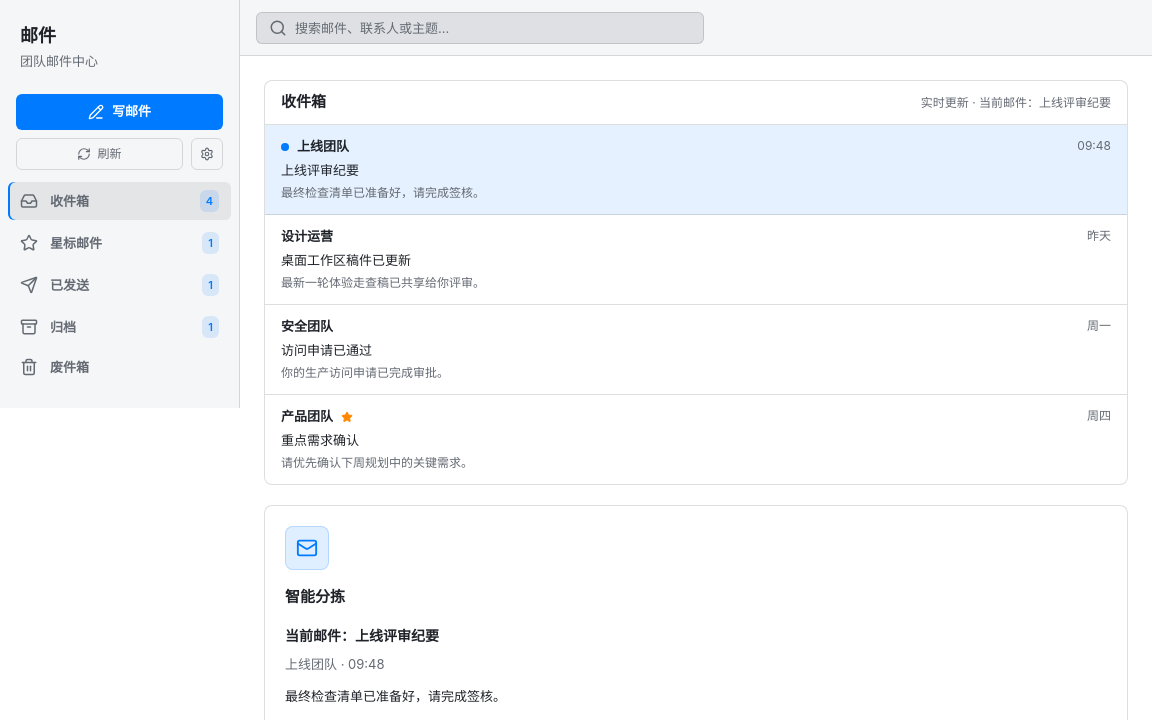
Scenario: workspace secondary pages › refuses to send mail until an account is configured
// 未配置邮箱账号 → 诚实拒绝发送（不伪造已发送），弹出账号配置面板
Click the button with test id "email-compose": click(120, 112) [16, 94, 223, 130]
(page scrolled)
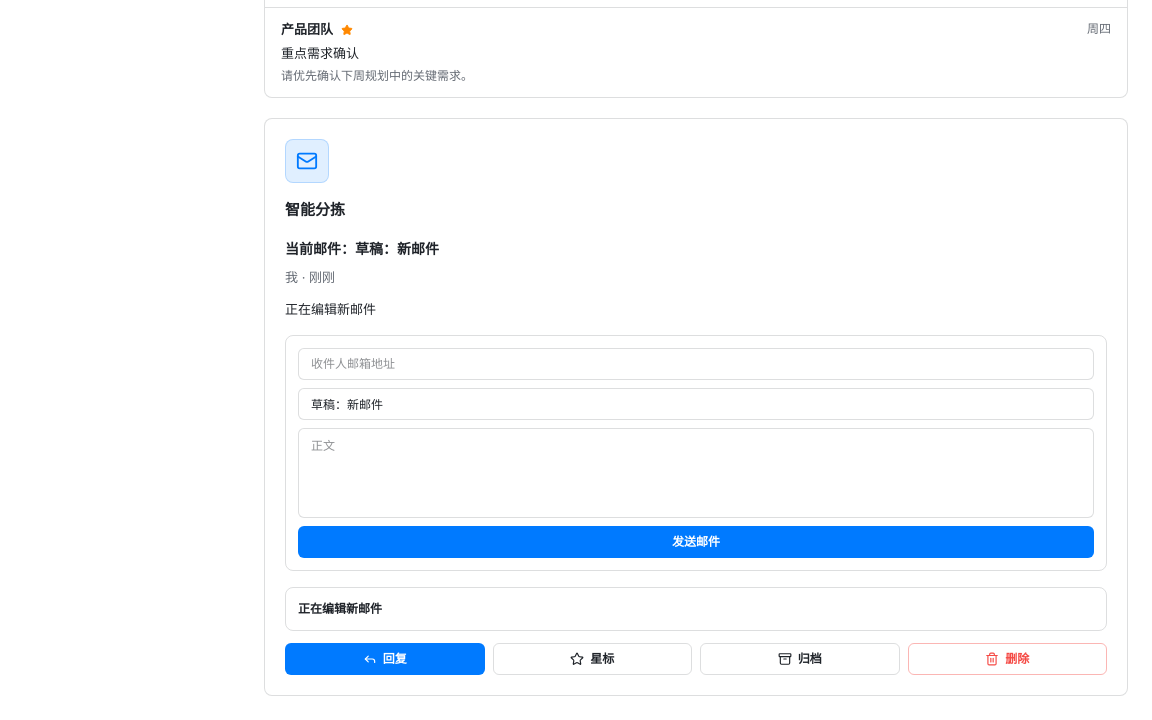
In the field with test id "email-compose-to": (696, 364) [298, 348, 1094, 380], type "ops@example.com"
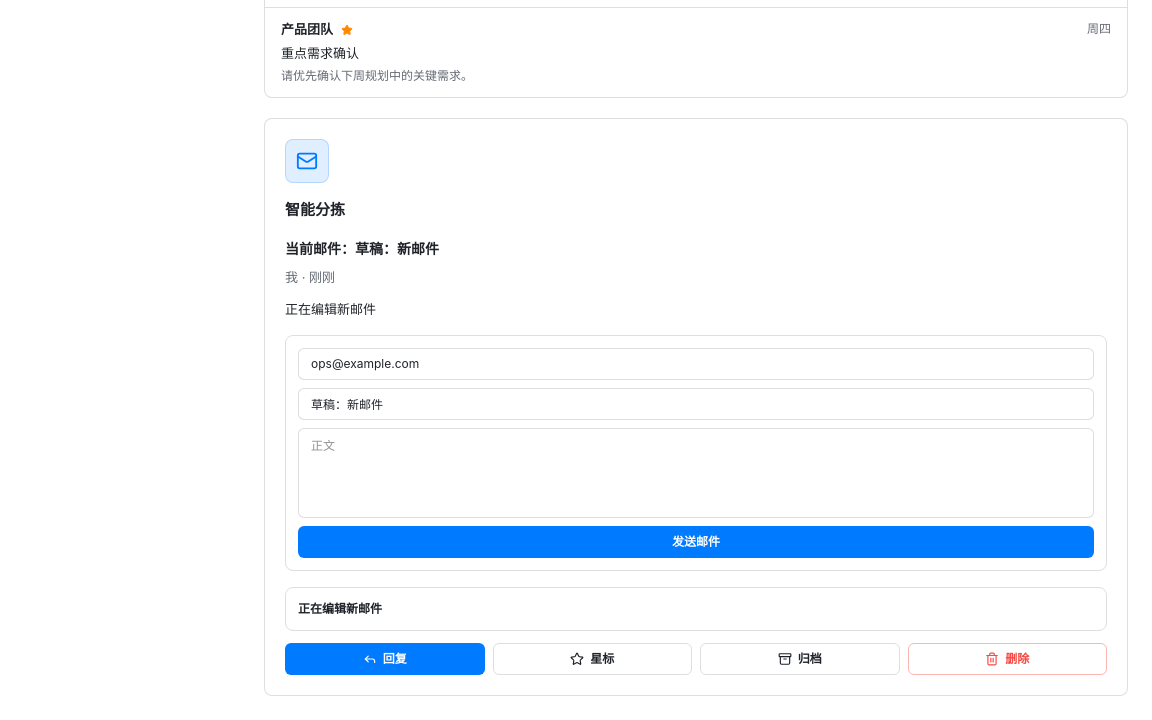
Replace the text in the field with test id "email-compose-subject" with "发布确认": (696, 404) [298, 388, 1094, 420]
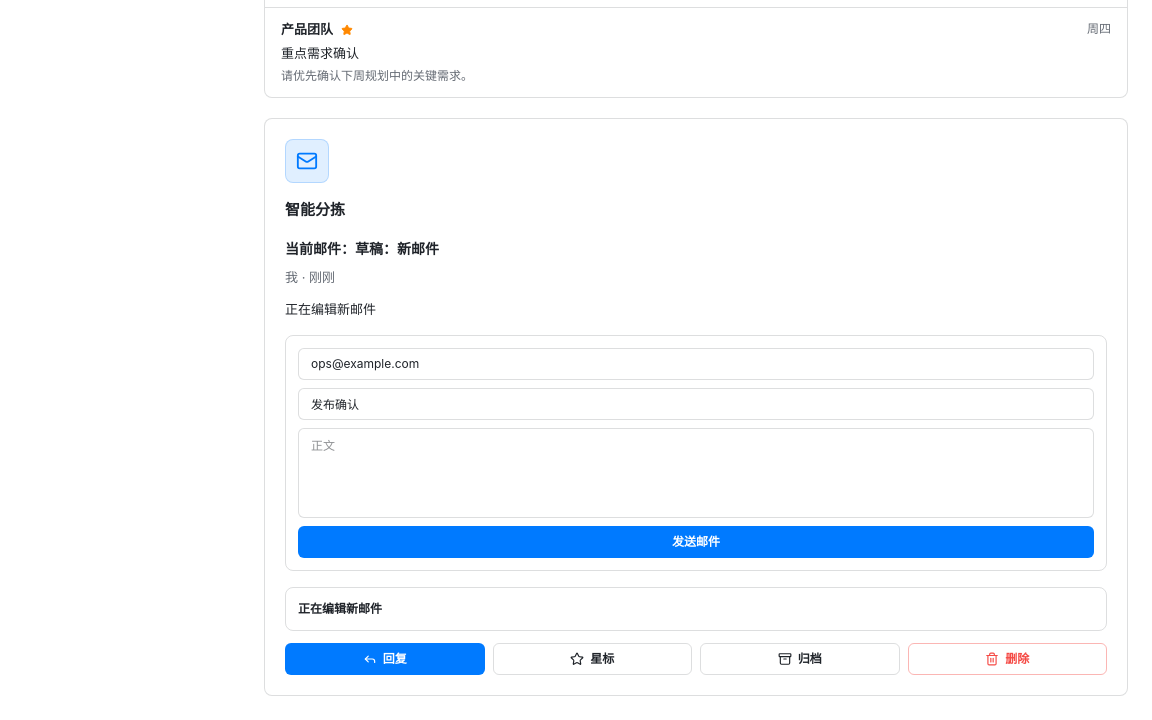
In the text box with test id "email-compose-body": (696, 472) [298, 428, 1094, 518], type "请确认今晚发布窗口。"
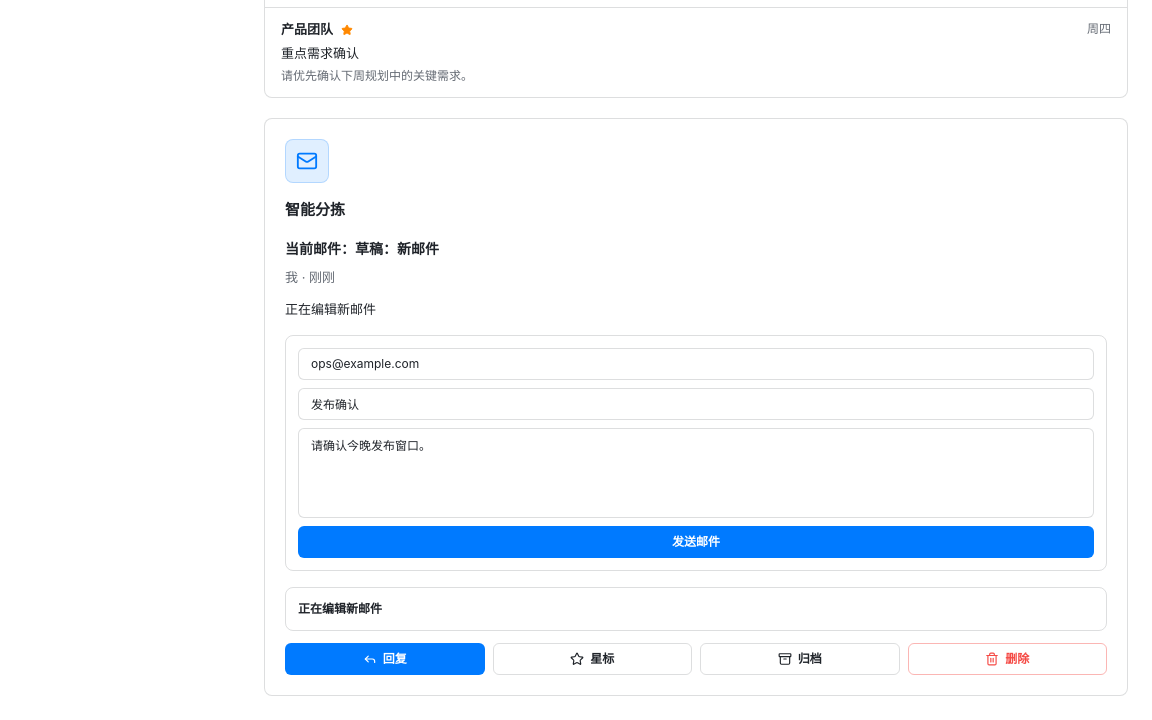
Click the button with test id "email-compose-send": click(696, 542) [298, 526, 1094, 558]
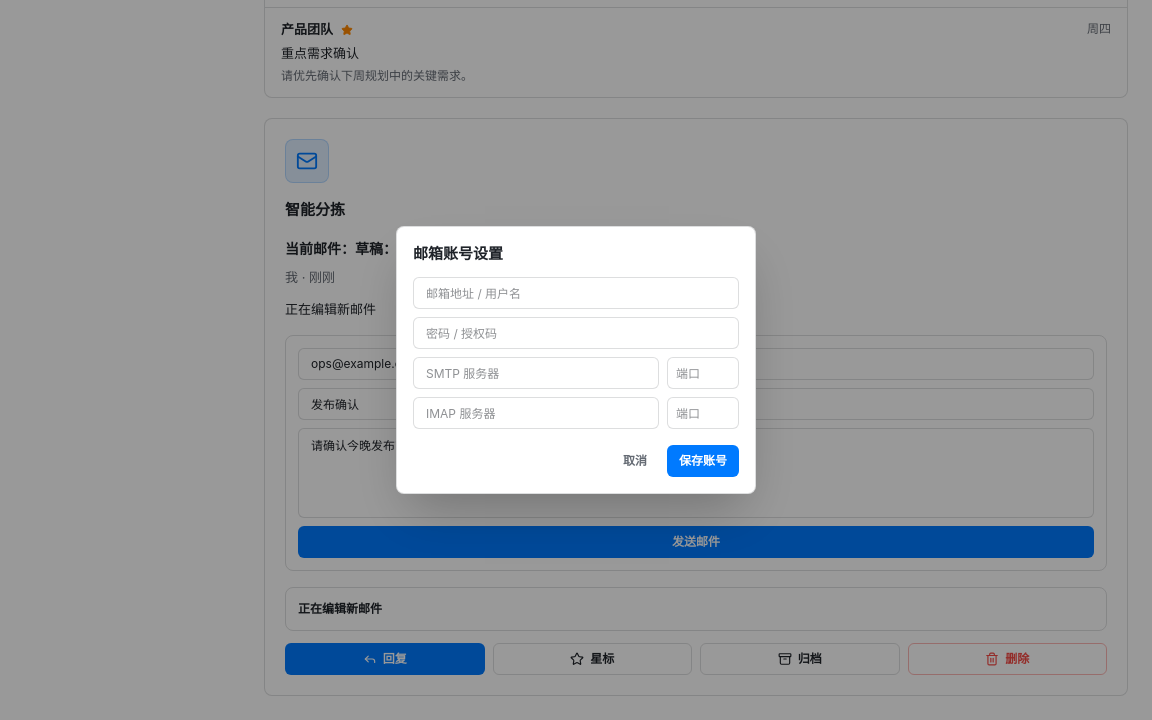
Expected: the element with test id "email-account-panel" is shown
